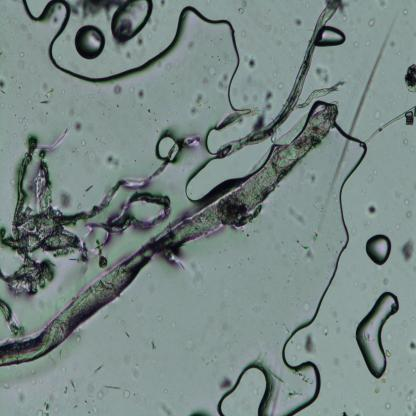Air bubble: (286, 142, 370, 376), (64, 5, 242, 110), (216, 354, 322, 414), (355, 289, 399, 382), (18, 0, 70, 78), (110, 1, 153, 43), (74, 22, 106, 62), (366, 233, 392, 267), (153, 132, 181, 163), (316, 26, 348, 49)
Background material: (349, 30, 392, 135), (361, 104, 416, 144), (287, 222, 323, 267), (72, 0, 114, 28), (256, 89, 275, 131), (285, 200, 310, 228), (95, 379, 121, 399), (301, 331, 320, 358), (404, 60, 416, 95), (191, 90, 206, 118), (127, 354, 142, 381), (314, 64, 332, 86), (401, 236, 415, 264), (57, 187, 74, 208), (38, 88, 57, 106), (404, 388, 416, 415), (104, 151, 121, 169), (214, 74, 229, 92), (182, 334, 196, 353), (159, 398, 173, 416), (243, 54, 257, 71), (218, 375, 233, 390), (306, 171, 320, 187), (186, 36, 199, 52), (172, 58, 184, 75), (186, 408, 209, 416), (84, 380, 97, 394), (366, 167, 378, 182), (41, 398, 51, 416), (136, 29, 146, 46), (122, 46, 134, 60), (208, 64, 218, 80), (91, 363, 104, 375), (405, 340, 416, 354), (367, 203, 377, 218), (238, 0, 248, 15), (332, 308, 341, 324), (292, 14, 304, 26), (74, 120, 84, 134), (244, 70, 254, 84), (13, 58, 24, 70), (299, 301, 311, 312), (318, 324, 329, 336), (200, 76, 211, 88), (0, 74, 7, 92), (367, 17, 378, 28), (90, 404, 101, 415), (136, 315, 147, 326), (113, 85, 123, 97), (404, 195, 414, 207), (122, 387, 131, 400), (374, 382, 382, 396), (50, 403, 60, 414), (230, 86, 239, 98), (69, 377, 76, 392), (137, 86, 145, 99), (150, 341, 158, 354), (378, 275, 388, 285), (5, 14, 15, 24), (393, 188, 403, 198), (374, 108, 384, 118), (404, 208, 414, 218), (50, 14, 59, 25), (163, 61, 172, 71), (221, 287, 230, 297), (358, 281, 368, 290), (240, 91, 248, 102), (351, 225, 359, 236), (28, 62, 36, 73), (401, 4, 408, 16), (333, 353, 340, 365), (401, 135, 408, 147), (123, 328, 130, 340), (249, 93, 257, 103), (394, 222, 402, 232), (2, 380, 10, 390), (80, 138, 88, 148), (85, 183, 95, 191), (377, 0, 387, 8), (275, 82, 283, 92), (7, 162, 14, 173), (8, 178, 17, 186), (35, 407, 43, 416), (147, 28, 153, 40), (55, 4, 63, 13), (56, 348, 62, 360), (156, 314, 164, 323), (353, 40, 361, 49), (64, 385, 72, 393), (17, 80, 25, 88), (390, 39, 396, 49), (241, 26, 247, 36), (386, 400, 391, 412), (272, 70, 279, 78), (335, 326, 342, 334), (18, 50, 26, 57), (339, 411, 350, 416), (8, 209, 14, 218), (325, 379, 331, 388), (72, 146, 78, 155), (8, 34, 14, 42), (19, 116, 24, 125), (75, 401, 80, 410), (275, 40, 282, 46), (77, 203, 83, 210), (8, 102, 14, 109), (61, 365, 66, 373), (228, 362, 233, 370), (354, 411, 362, 416), (13, 152, 18, 160), (26, 33, 32, 39), (26, 99, 32, 105), (161, 0, 165, 9), (411, 367, 416, 374), (17, 92, 21, 100), (380, 378, 385, 384), (0, 102, 5, 108), (13, 133, 18, 138), (147, 108, 152, 113), (396, 50, 401, 55), (76, 336, 80, 342), (73, 86, 77, 91), (170, 81, 174, 86), (0, 51, 3, 57), (116, 102, 119, 108), (0, 35, 3, 40), (16, 143, 19, 147), (90, 94, 92, 100), (166, 119, 169, 123), (23, 127, 28, 129), (210, 39, 213, 42), (85, 400, 88, 403), (210, 56, 214, 58), (133, 160, 137, 162), (155, 118, 157, 122), (208, 106, 211, 108), (220, 38, 222, 41), (217, 55, 219, 58), (218, 59, 220, 61)
Cellulose filter fibre: (0, 131, 198, 296), (216, 1, 342, 160), (214, 102, 262, 132), (0, 298, 26, 336)
Microfibre: (0, 99, 341, 367)
